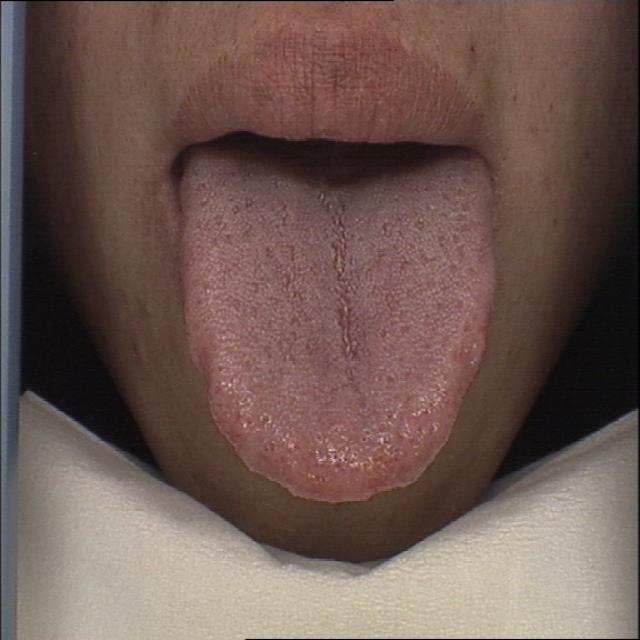tongue: (168, 142, 507, 509)
